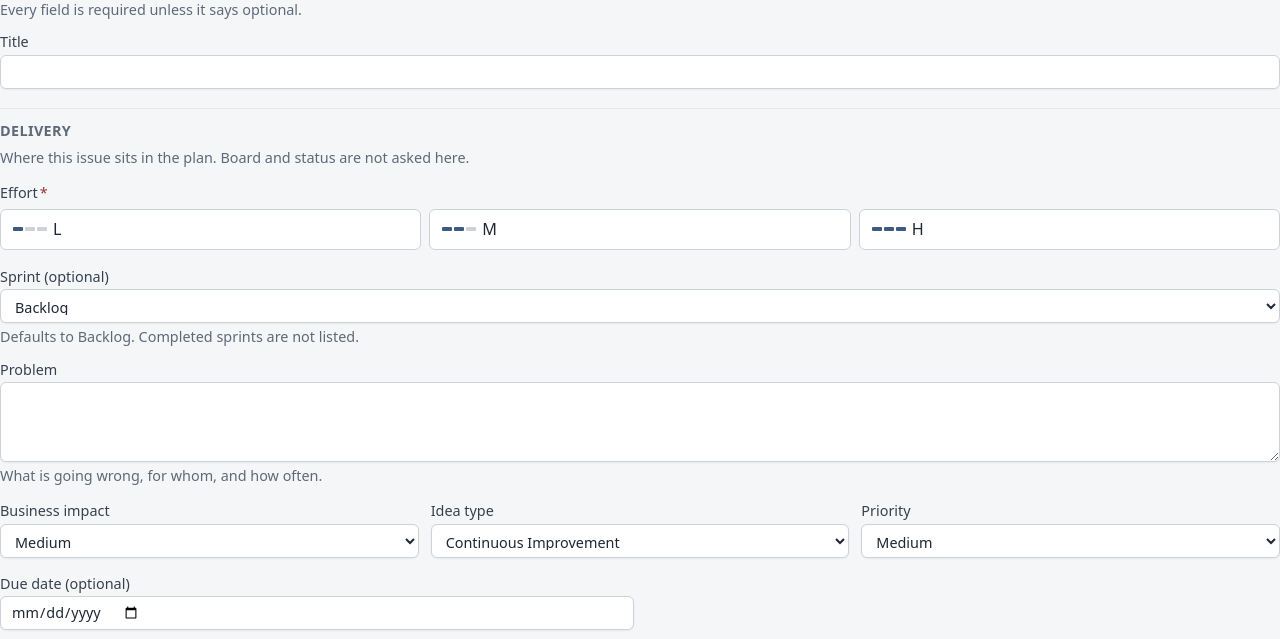
Scenario: IdeaForm adding an Issue › lists an error keyed to a field the form does not show above the form
Type "Fix the dock door" into the field labelled "Title".
click(640, 72); type("Fix the dock door")  # box [0, 55, 1279, 89]
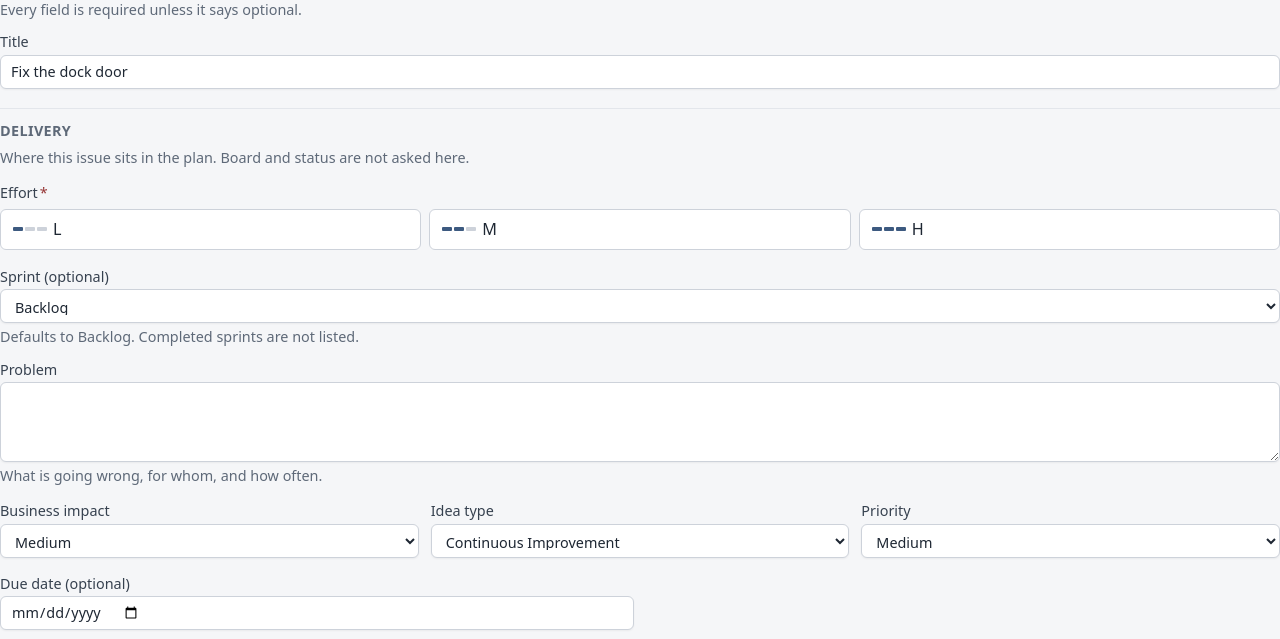
Type "It jams." into the text box labelled "Problem".
click(640, 422); type("It jams.")  # box [0, 382, 1279, 462]
(page scrolled)
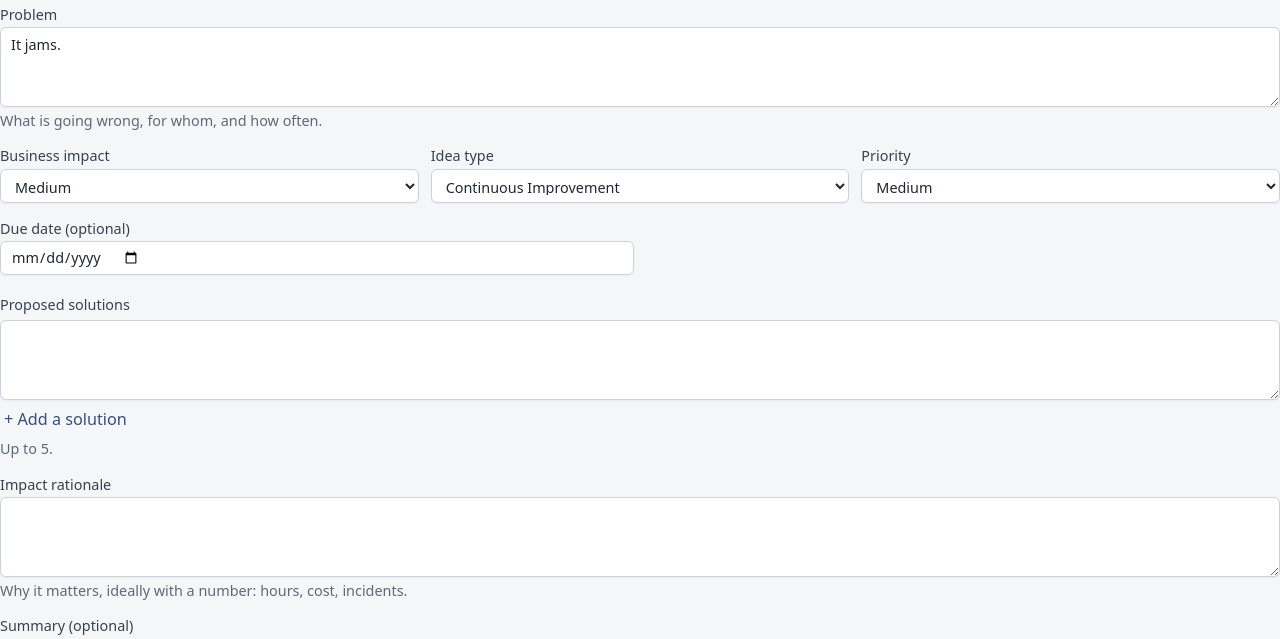
Type "New track" into the text box named "Solution 1".
click(640, 360); type("New track")  # box [0, 320, 1279, 400]
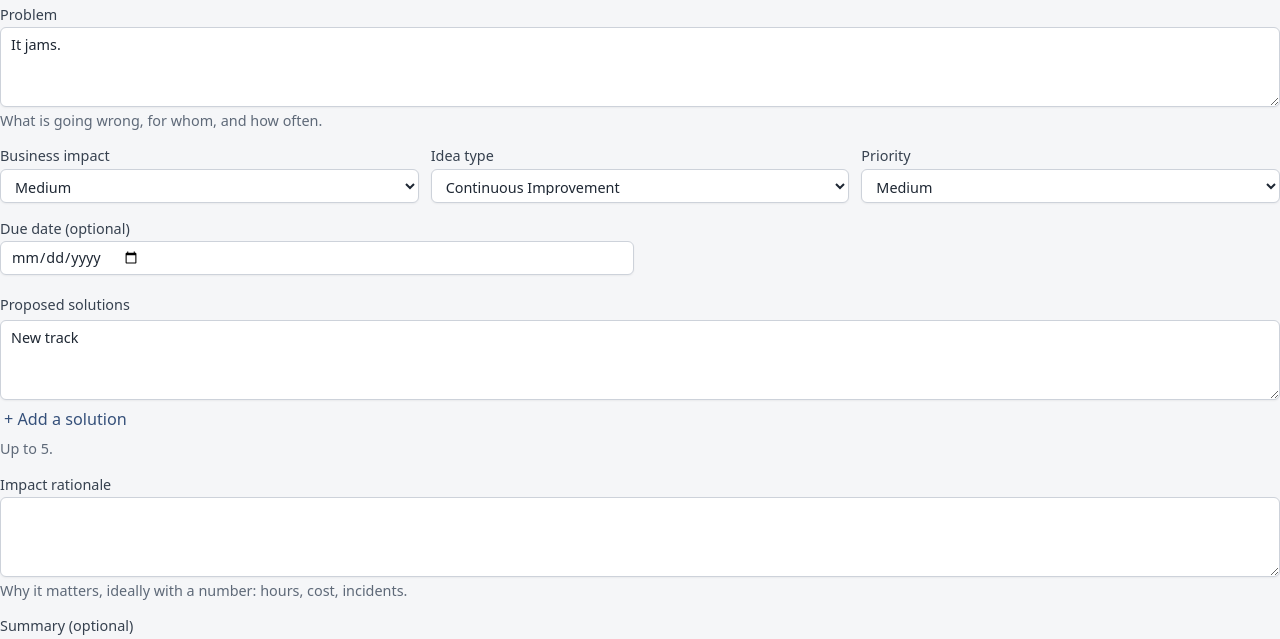
Type "Hours." into the text box labelled "Impact rationale".
click(640, 537); type("Hours.")  # box [0, 497, 1279, 577]
(page scrolled)
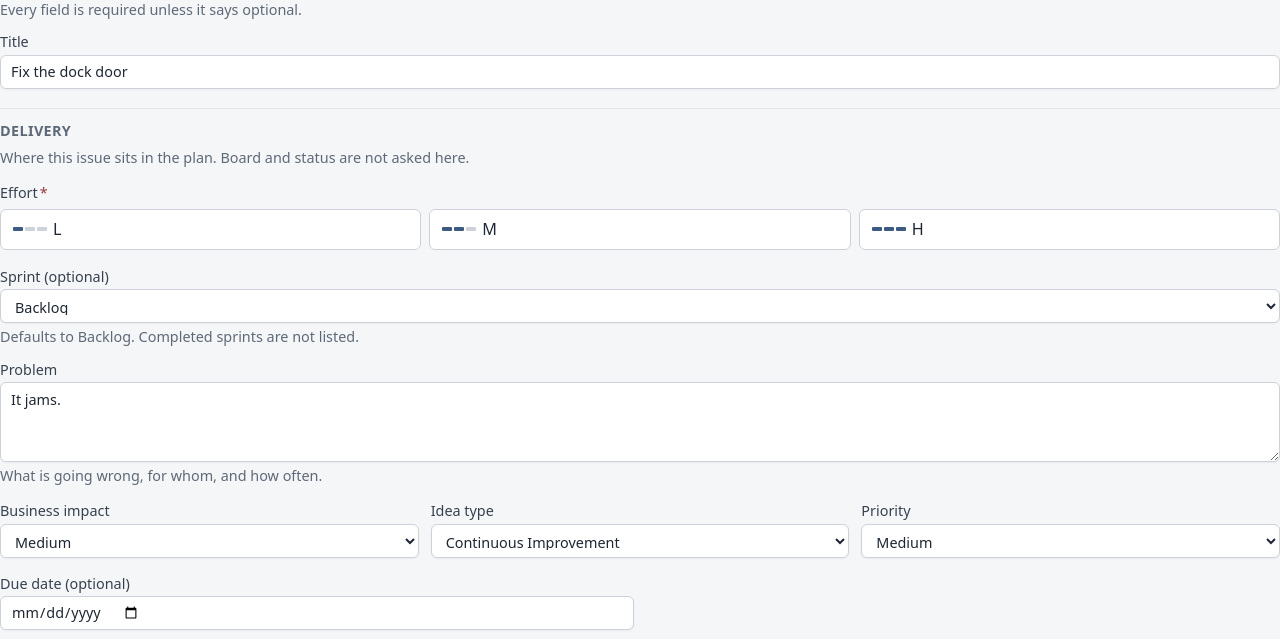
Click the radio button named "Low effort".
click(27, 240)  # box [0, 209, 421, 250]
(page scrolled)
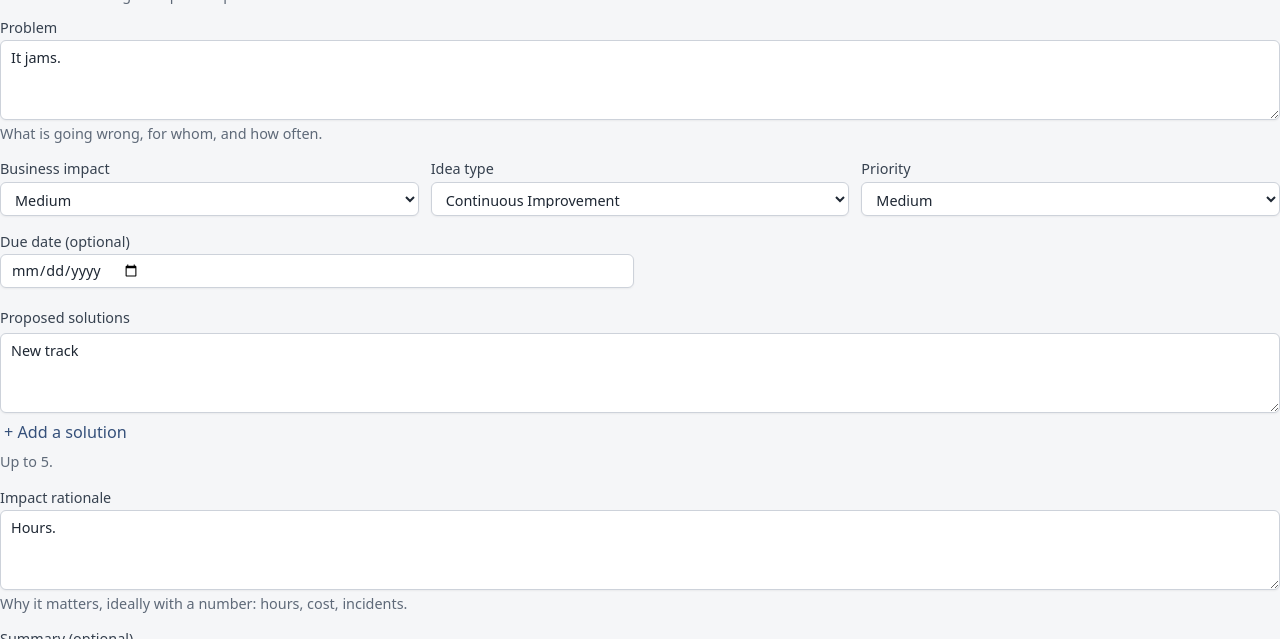
Submit the form
(page scrolled)
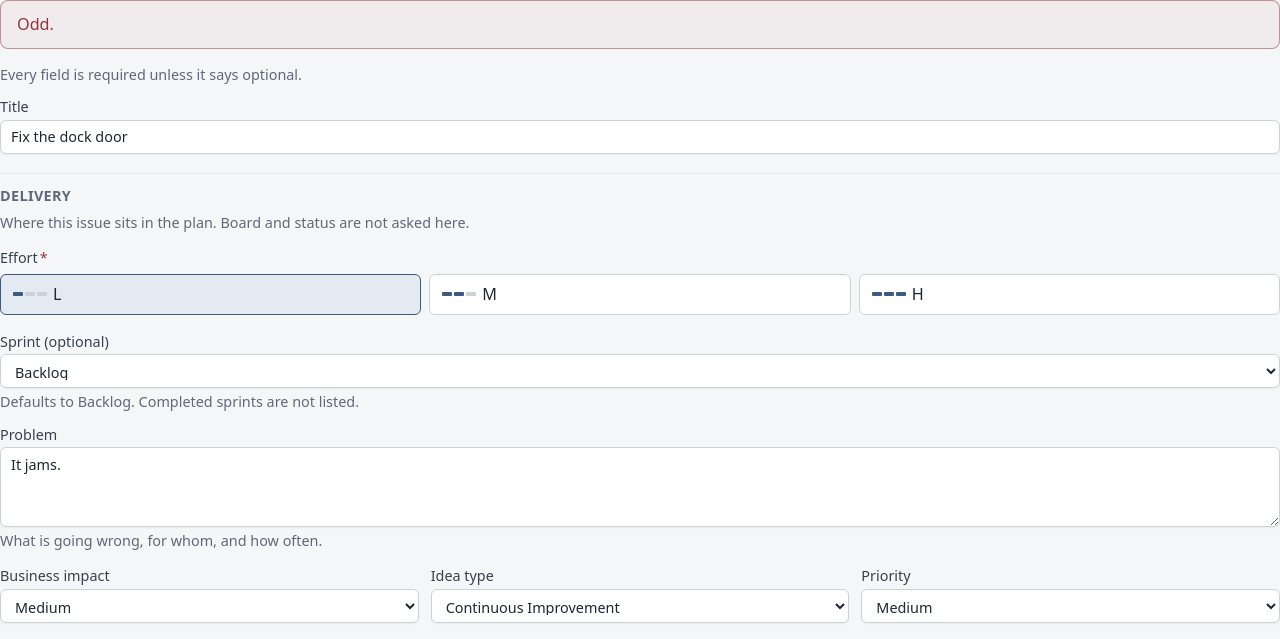
Now the message reads "Odd.", box [17, 13, 54, 35]
